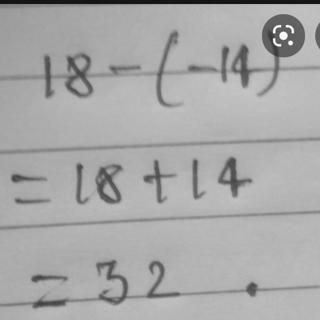.: (242, 275, 261, 299)
1: (38, 51, 57, 100), (188, 157, 204, 201), (72, 161, 86, 204), (219, 43, 230, 85)
2: (146, 260, 174, 299)
3: (94, 261, 131, 305)
4: (216, 156, 248, 198), (230, 44, 251, 89)
8: (63, 51, 94, 97), (98, 163, 124, 205)
